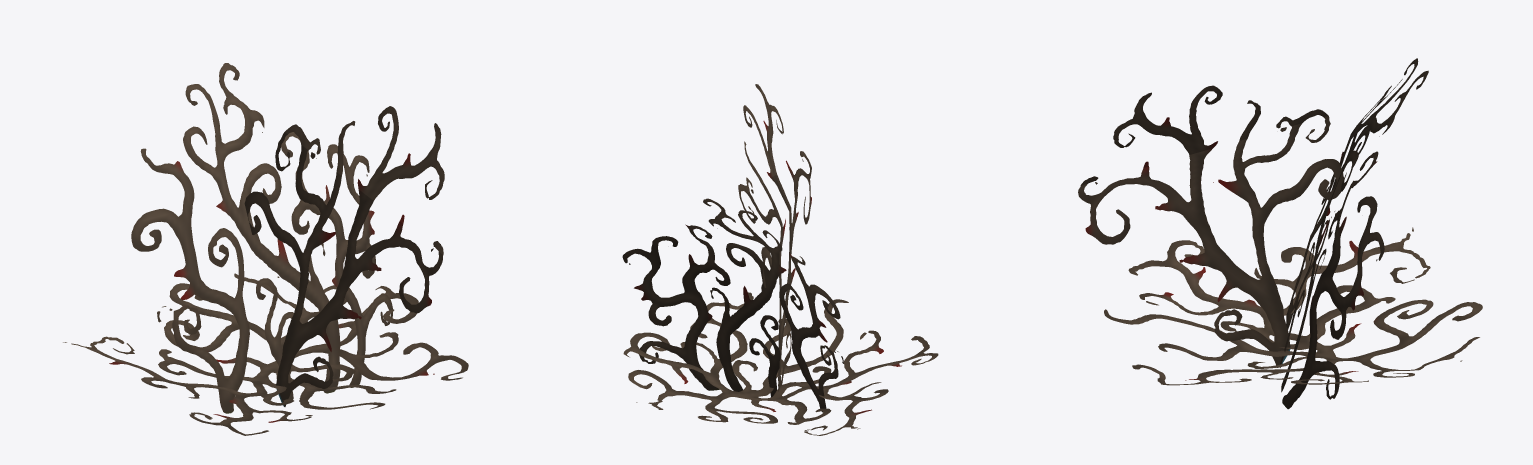
Rendered from Bush_thorned1.fbx.
3 views of the same model, side by side, from view 1: azimuth 30°, elevation 25°; view 2: azimuth 150°, elevation 25°; view 3: azimuth 270°, elevation 25° (orthographic). The views are drawn at different scales.
Visible parts, largest first — view 1: Bush_thorned1; view 2: Bush_thorned1; view 3: Bush_thorned1.
Part boxes in pixels (x1,y1,x2,y2): Bush_thorned1: (63, 63, 468, 435); Bush_thorned1: (622, 84, 938, 435); Bush_thorned1: (1078, 58, 1482, 409).
Size of the model in its own units: 300 by 356 by 367.
Materials: 1 (1 with a texture image).
